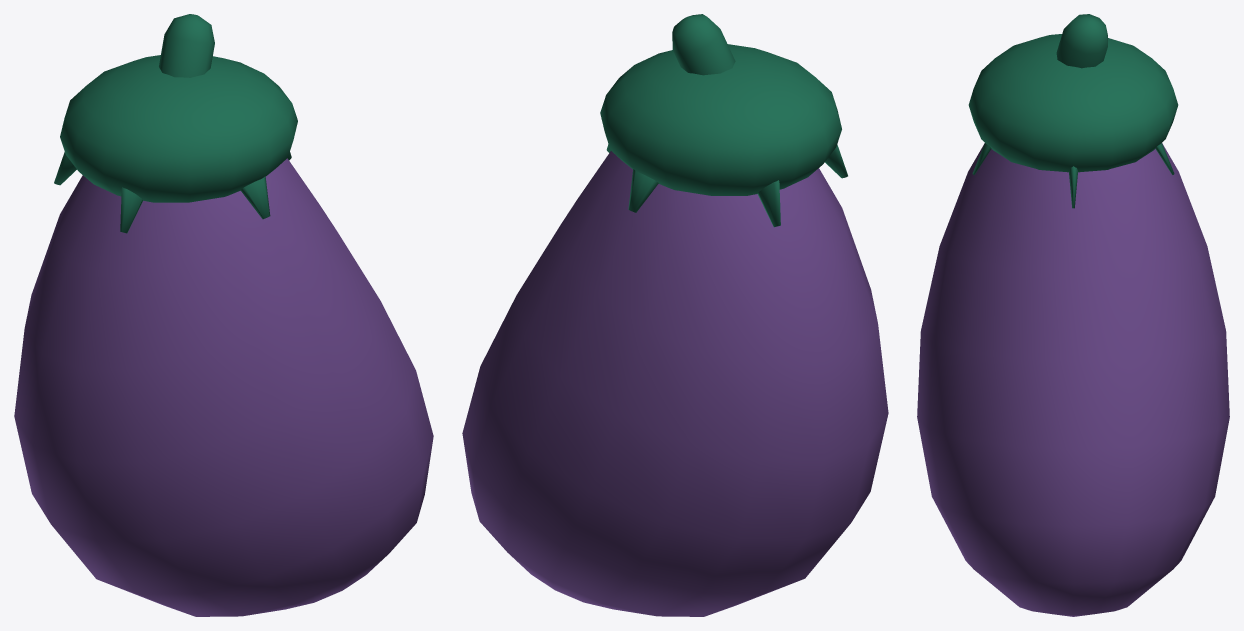
File: eggplant.glb
3 views of the same model, side by side, from view 1: azimuth 30°, elevation 25°; view 2: azimuth 150°, elevation 25°; view 3: azimuth 270°, elevation 25° (orthographic). The views are drawn at different scales.
Parts seen in each view (by area): view 1: eggplant; view 2: eggplant; view 3: eggplant.
Boxes of the visible parts, <box> form: eggplant: <box>14,14,433,616</box>; eggplant: <box>462,14,888,616</box>; eggplant: <box>917,14,1229,616</box>.
Bounding box in the file's own units: 0.3962 × 0.586 × 0.3012.
